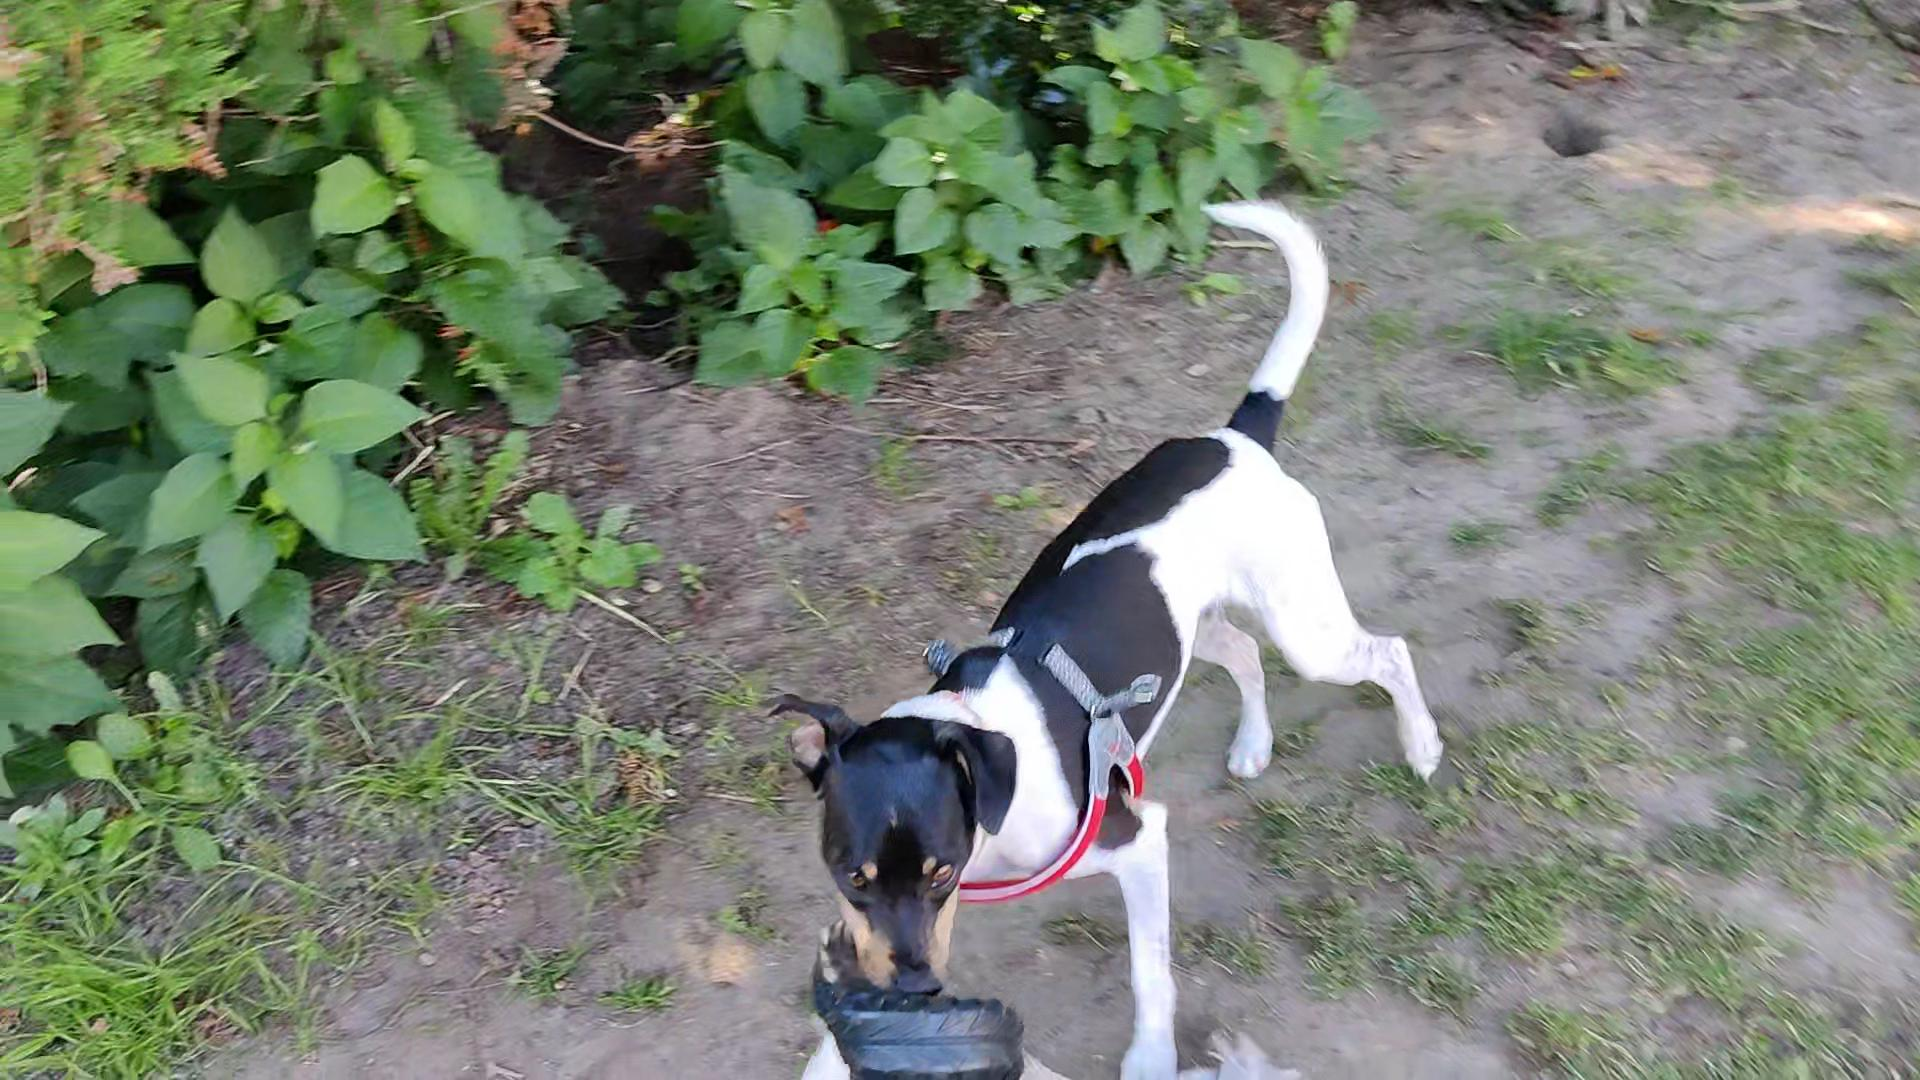Dog: (745, 185, 1466, 1079)
